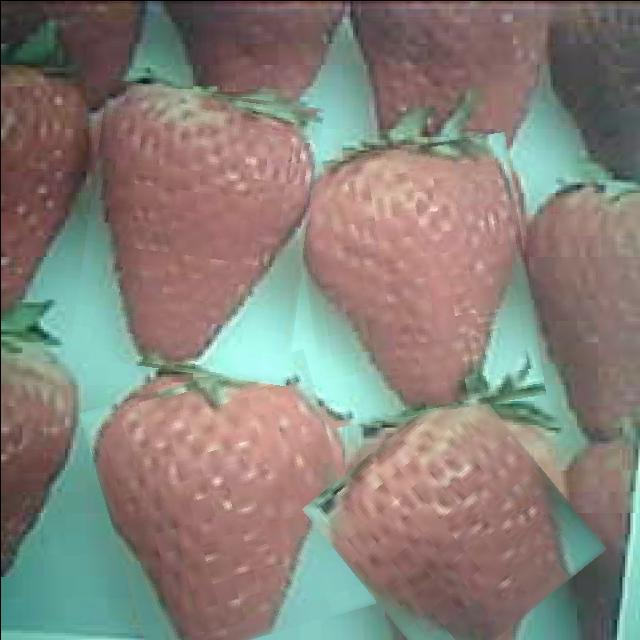strawberry: (95, 361, 360, 640), (78, 84, 315, 378), (296, 138, 536, 420), (324, 396, 583, 640)
